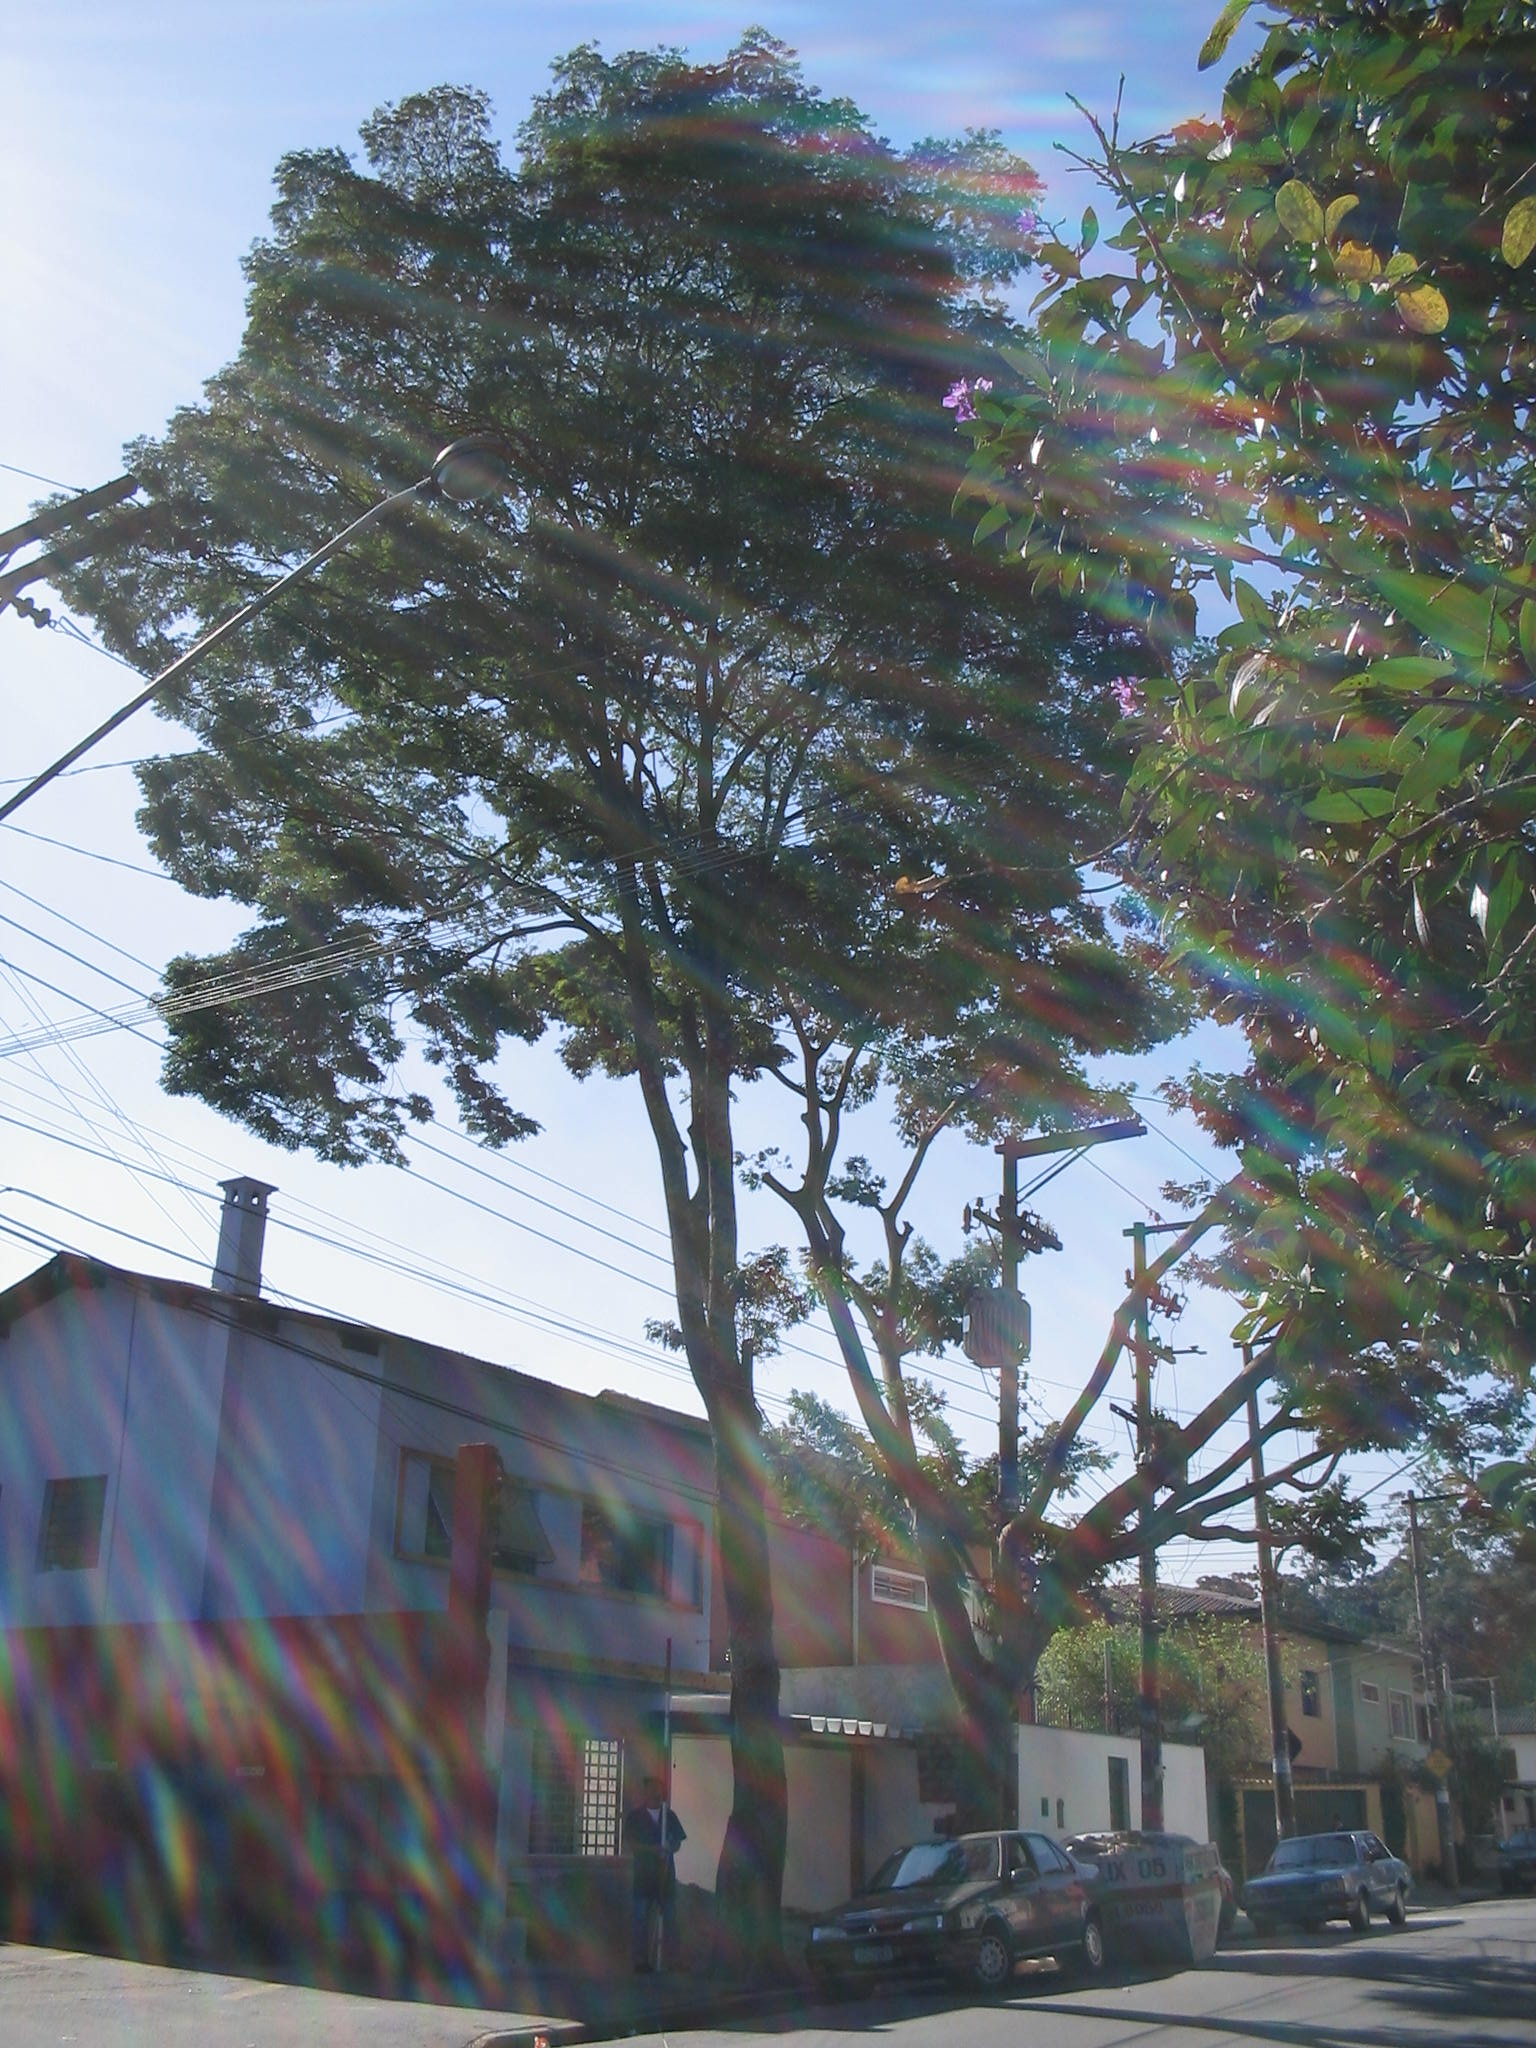crown: (19, 24, 1196, 1203)
stem: (681, 1392, 831, 1979), (907, 1700, 1065, 1825)
stick: (632, 1638, 695, 1971)
tree: (15, 18, 1202, 1982), (778, 1042, 1444, 1837)
